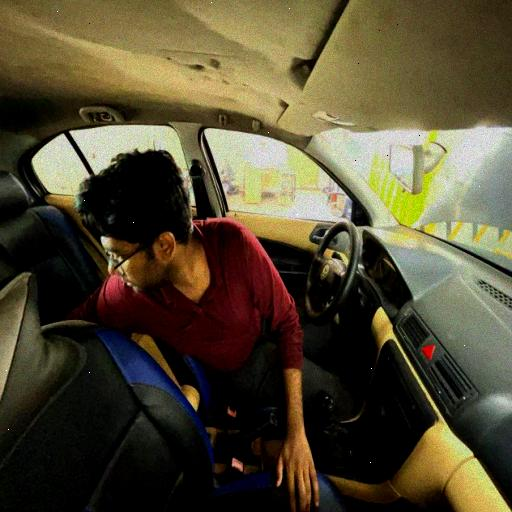Reaching_behind: (42, 149, 363, 424)
